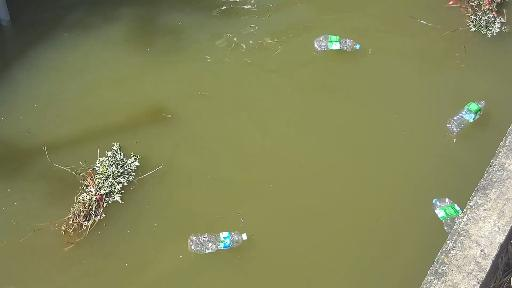plastic: (448, 97, 486, 139), (426, 189, 467, 226), (185, 232, 254, 251), (319, 30, 366, 56)
twig: (53, 123, 165, 237), (457, 0, 512, 43)
